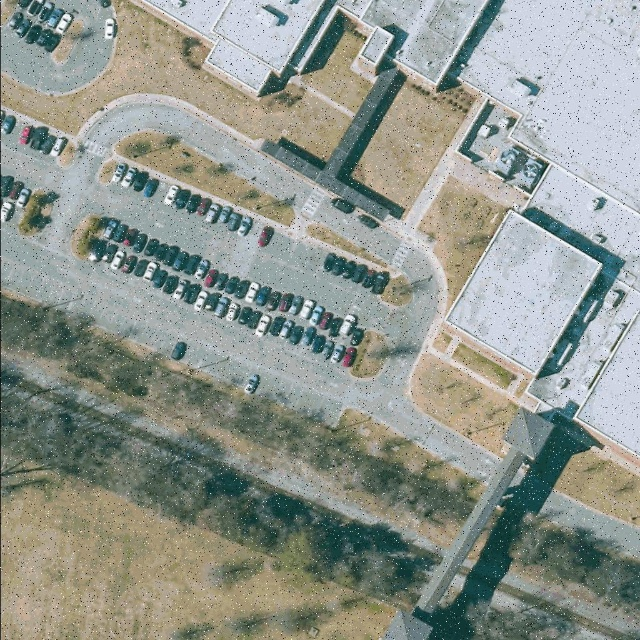vegetation: (2, 292, 487, 524), (480, 504, 640, 627), (431, 595, 584, 640)
